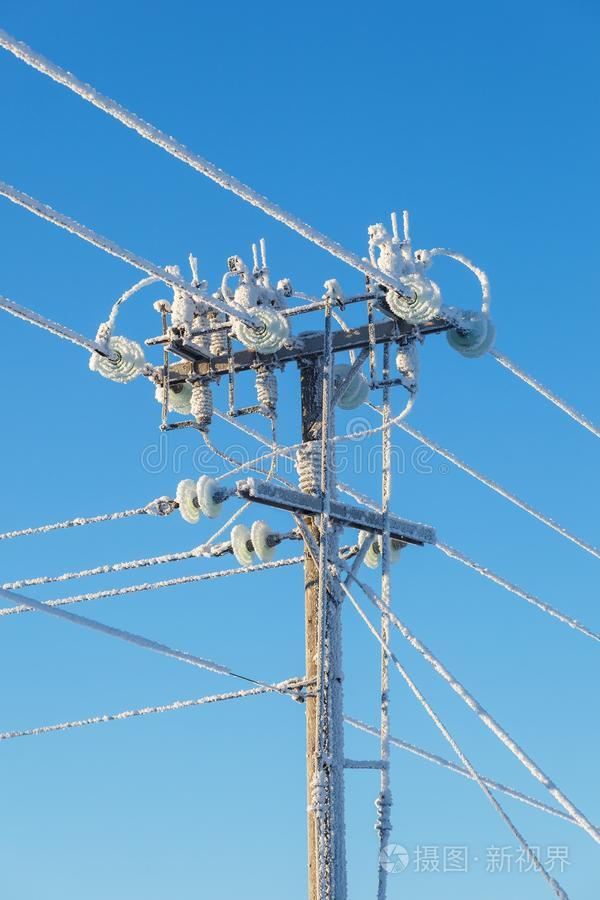insulator: (234, 308, 292, 356), (170, 472, 218, 524), (92, 337, 146, 381), (381, 278, 440, 317), (446, 310, 492, 358), (228, 518, 272, 563), (329, 363, 370, 409), (154, 383, 195, 420), (295, 448, 328, 492), (251, 369, 278, 408)
